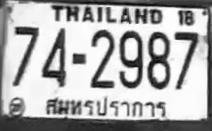2: (90, 29, 114, 88)
4: (40, 27, 66, 86)
7: (12, 24, 39, 86), (174, 31, 198, 89)
8: (146, 31, 169, 89)
9: (118, 30, 142, 88)
SPK: (42, 92, 172, 124)
